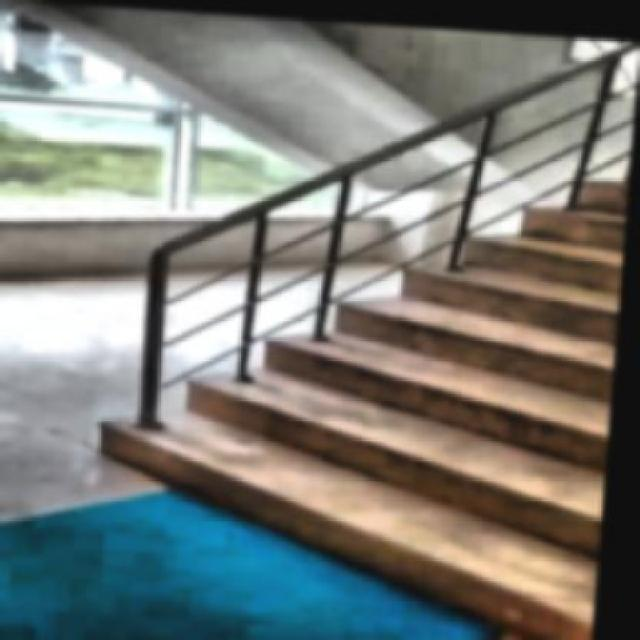stair: (92, 64, 636, 638)
